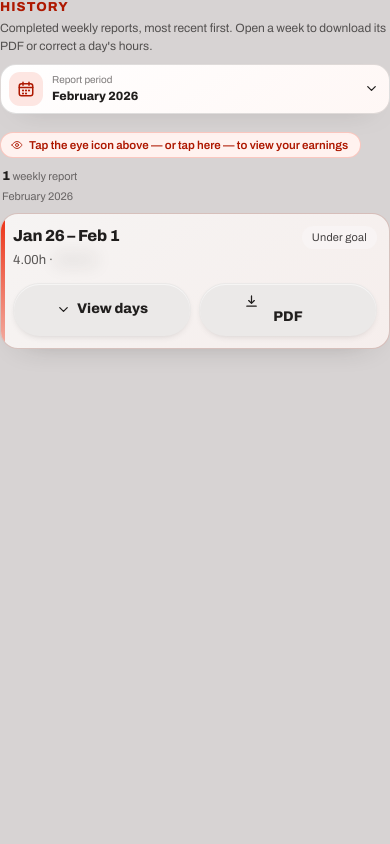
opening the editor › opens for the day that was clicked, with its existing times prefilled
Click the button "View days" at (102, 309), box x1=13 y1=282 x2=191 y2=336
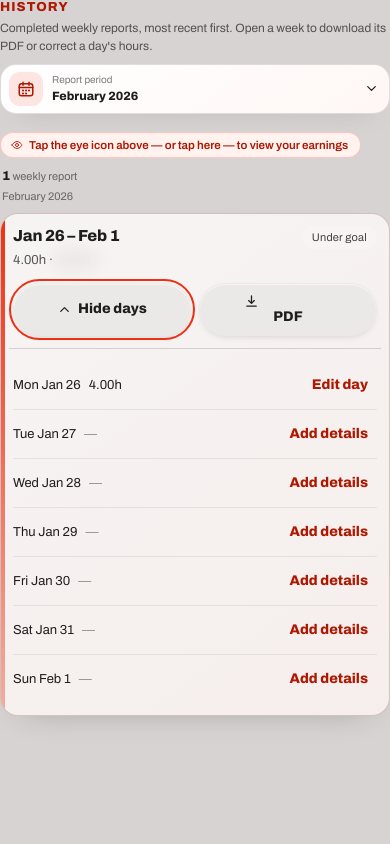
Click the button with aria-label "Edit hours for Mon" at (340, 385), box x1=303 y1=363 x2=377 y2=407
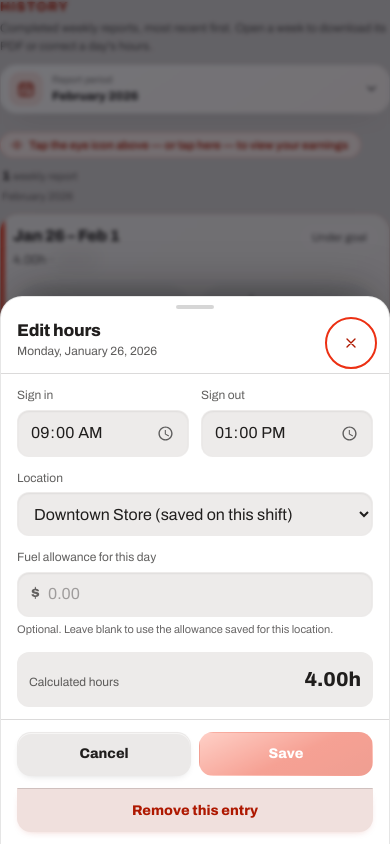
Expected: the text "Monday, January 26, 2026" is shown, x1=17 y1=344 x2=157 y2=358
Expected: the time field labelled "Sign in" holds "09:00", x1=17 y1=410 x2=189 y2=457
Expected: the time field labelled "Sign out" holds "13:00", x1=201 y1=410 x2=373 y2=457
